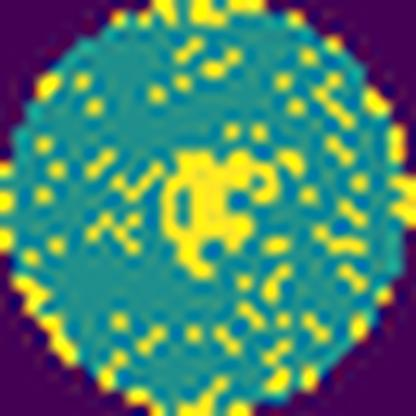Center: (154, 147, 286, 283)
